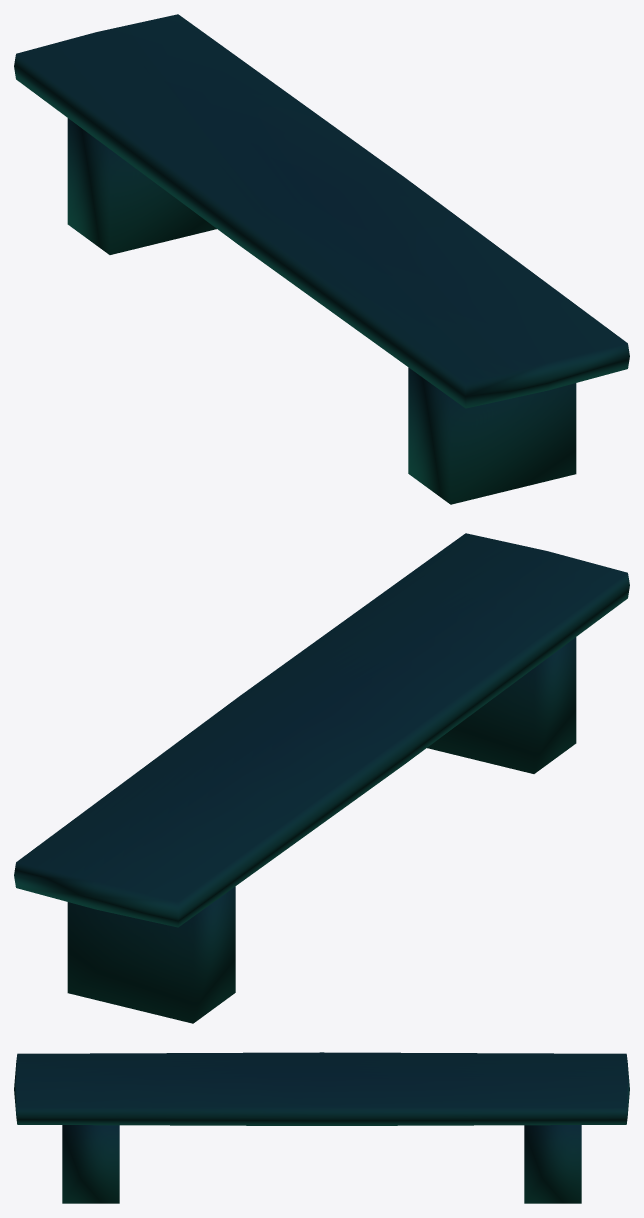
File: sanctum_bench.glb
3 views of the same model, one above another, from view 1: azimuth 30°, elevation 25°; view 2: azimuth 150°, elevation 25°; view 3: azimuth 270°, elevation 25° (orthographic). The views are drawn at different scales.
Parts seen in each view (by area): view 1: sanctum_bench; view 2: sanctum_bench; view 3: sanctum_bench.
Boxes of the visible parts, left/top/right/bottom form: sanctum_bench: left=14, top=14, right=629, bottom=504; sanctum_bench: left=14, top=533, right=629, bottom=1023; sanctum_bench: left=14, top=1052, right=629, bottom=1203.
Size of what is drawn, in the model's own units: 0.52 by 0.4515 by 2.4.
